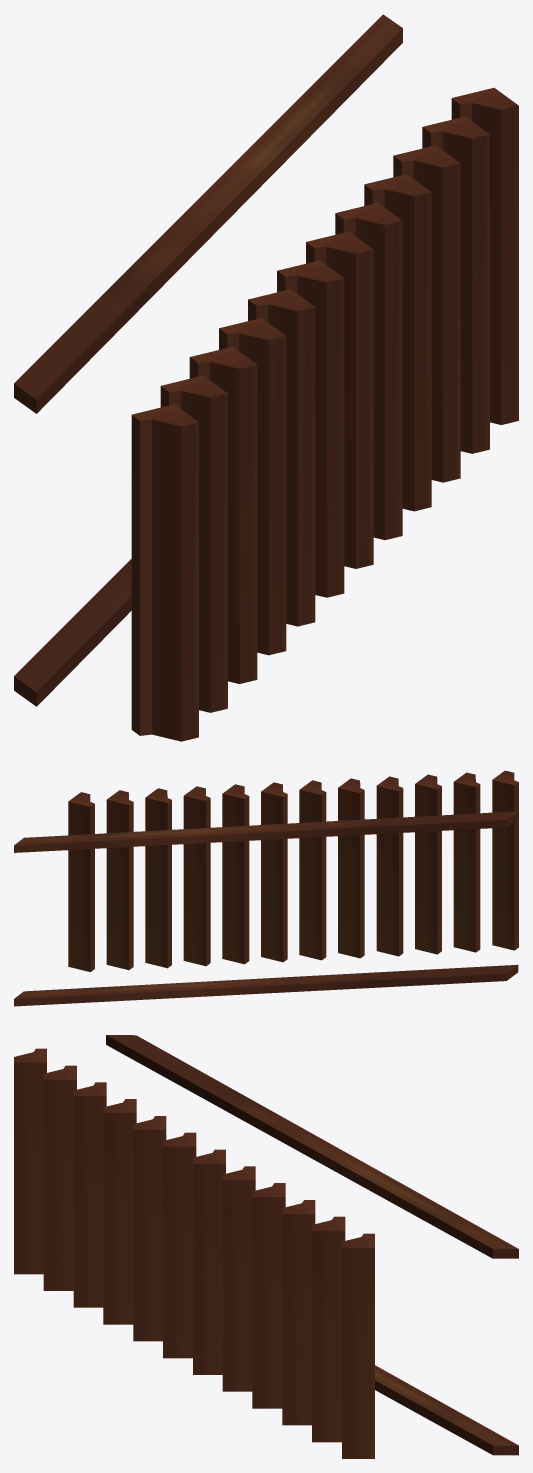
File: stairs_mod.fbx
3 renders of one model, top to bottom at view 1: azimuth 30°, elevation 25°; view 2: azimuth 150°, elevation 25°; view 3: azimuth 270°, elevation 25°, orthographic. The views are drawn at different scales.
Parts seen in each view (by area): view 1: Cube.014; view 2: Cube.014; view 3: Cube.014.
Boxes of the visible parts, x1,y1,x2,y2 form: Cube.014: (14,14,518,741); Cube.014: (14,770,518,1006); Cube.014: (14,1035,518,1458).
Bounding box in the file's own units: 1222 × 559 × 1209.
Materials: 1 (1 with a texture image).
